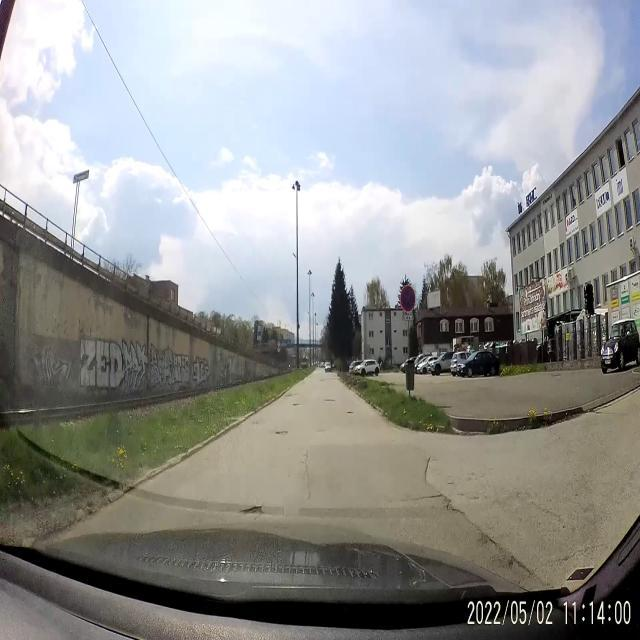Pothole: (237, 498, 266, 520), (476, 524, 498, 549), (436, 495, 463, 515), (318, 388, 336, 406), (273, 422, 290, 438), (288, 400, 304, 416), (341, 406, 356, 416)
